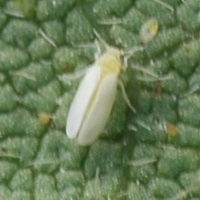insect: (66, 31, 120, 144)
